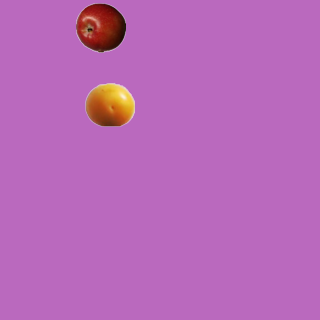Apple Braeburn: (75, 2, 125, 52)
Cherry Wax Yellow: (84, 79, 134, 129)
